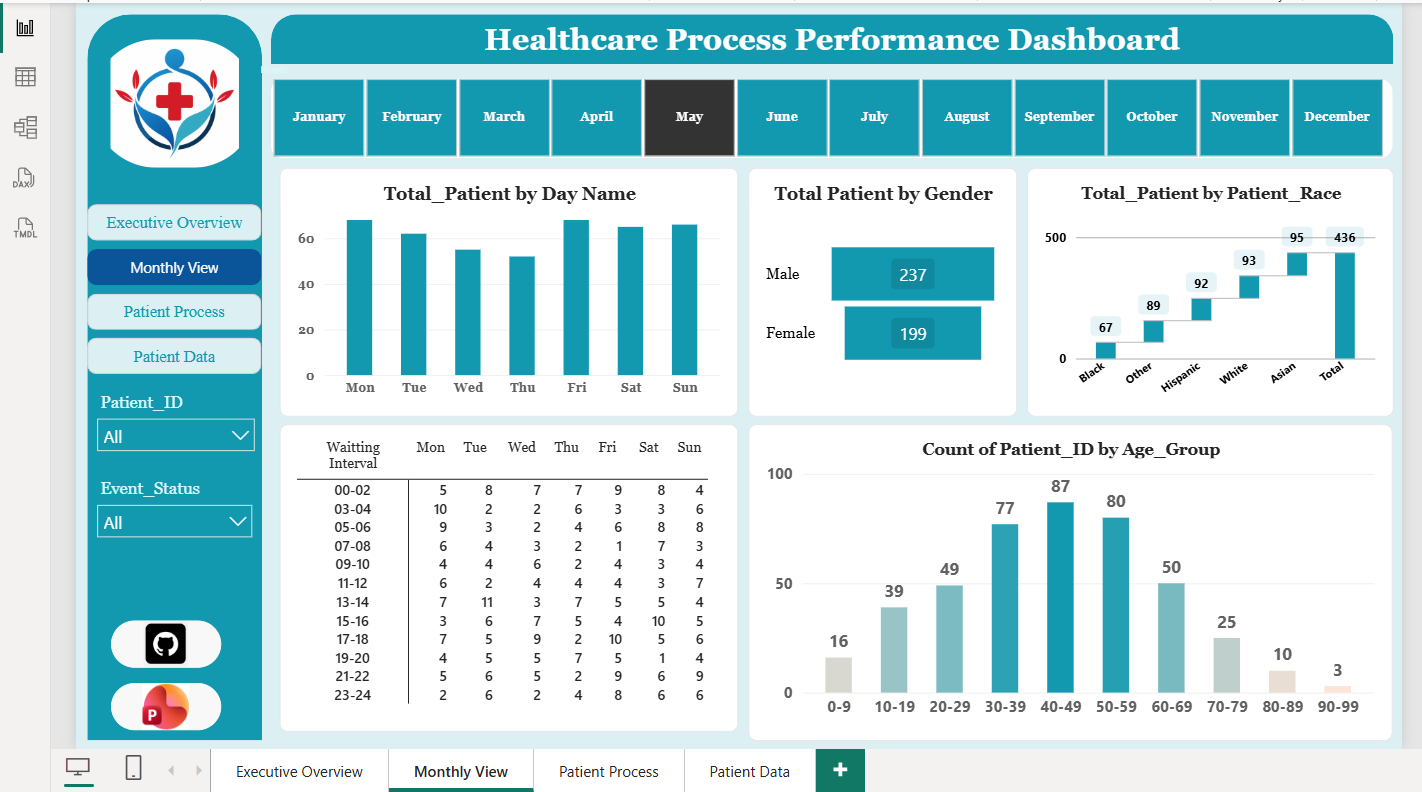

This screenshot's page, from the dashboard's own definition file:
{"tool":"powerbi","page":{"name":"Monthly View","canvas":[1280,720],"ordinal":1},"visuals":[{"type":"shape","box":[10.9,10.9,168.9,700.9],"z":0},{"type":"image","box":[15.7,35,159.3,124.3],"z":1000},{"type":"shape","box":[188.2,10.9,1083.4,48.3],"z":2000},{"type":"shape","box":[188.2,73.6,1082.2,76],"z":3000},{"type":"columnChart","fields":{"Category":["mart_case_summary.Age_Group"],"Y":["CountNonNull(mart_case_summary.Patient_ID)"]},"box":[649.1,406.6,621.3,305.2],"z":4000},{"type":"funnel","title":"Total Patient by Gender","fields":{"Category":["mart_case_summary.Patient_Gender"],"Y":["mart_case_summary.Total_Patient"]},"box":[649.1,159.3,259.4,240.1],"z":5000},{"type":"waterfallChart","fields":{"Category":["mart_case_summary.Patient_Race"],"Y":["mart_case_summary.Total_Patient"]},"box":[918.1,159.3,353.5,240.1],"z":6000},{"type":"pivotTable","fields":{"Columns":["Date table.Day Name"],"Rows":["mart_case_summary.Waitting Interval"],"Values":["mart_case_summary.Total_Patient"]},"box":[196.6,406.6,442.8,296.8],"z":7000},{"type":"columnChart","fields":{"Category":["Date table.Day Name"],"Y":["mart_case_summary.Total_Patient"]},"box":[196.6,159.3,442.8,240.1],"z":8000},{"type":"slicer","fields":{"Values":["mart_case_summary.Case_Start_Timestamp.Variation.Date Hierarchy.Month"]},"box":[170.1,59.1,1109.9,90.5],"z":9000},{"type":"pageNavigator","box":[10.9,194.2,168.9,167.7],"z":10000},{"type":"slicer","fields":{"Values":["mart_case_summary.Patient_ID"]},"box":[15.7,376.4,161.7,61.5],"z":10001},{"type":"slicer","fields":{"Values":["mart_case_summary.Event_Status_Summary"]},"box":[15.7,459.7,159.3,61.5],"z":10002},{"type":"image","title":"Github","box":[33.8,596,106.2,45.8],"z":10004},{"type":"image","title":"Github","box":[33.8,656.3,106.2,45.8],"z":10005}]}

Visuals, with their boxes on the page's 1280x720 design canvas (x1, y1, x2, y2). These are canvas units, not pixel positions in the 1422x792 screenshot, which may show the page scaled, cropped or inside an application window:
shape: {"x1": 11, "y1": 11, "x2": 180, "y2": 712}
image: {"x1": 16, "y1": 35, "x2": 175, "y2": 159}
shape: {"x1": 188, "y1": 11, "x2": 1272, "y2": 59}
shape: {"x1": 188, "y1": 74, "x2": 1270, "y2": 150}
columnChart - mart_case_summary.Age_Group x CountNonNull(mart_case_summary.Patient_ID): {"x1": 649, "y1": 407, "x2": 1270, "y2": 712}
"Total Patient by Gender" funnel: {"x1": 649, "y1": 159, "x2": 908, "y2": 399}
waterfallChart - mart_case_summary.Patient_Race x mart_case_summary.Total_Patient: {"x1": 918, "y1": 159, "x2": 1272, "y2": 399}
pivotTable - Date table.Day Name x mart_case_summary.Waitting Interval: {"x1": 197, "y1": 407, "x2": 639, "y2": 703}
columnChart - Date table.Day Name x mart_case_summary.Total_Patient: {"x1": 197, "y1": 159, "x2": 639, "y2": 399}
slicer - mart_case_summary.Case_Start_Timestamp.Variation.Date Hierarchy.Month: {"x1": 170, "y1": 59, "x2": 1280, "y2": 150}
pageNavigator: {"x1": 11, "y1": 194, "x2": 180, "y2": 362}
slicer - mart_case_summary.Patient_ID: {"x1": 16, "y1": 376, "x2": 177, "y2": 438}
slicer - mart_case_summary.Event_Status_Summary: {"x1": 16, "y1": 460, "x2": 175, "y2": 521}
"Github" image: {"x1": 34, "y1": 596, "x2": 140, "y2": 642}
"Github" image: {"x1": 34, "y1": 656, "x2": 140, "y2": 702}
